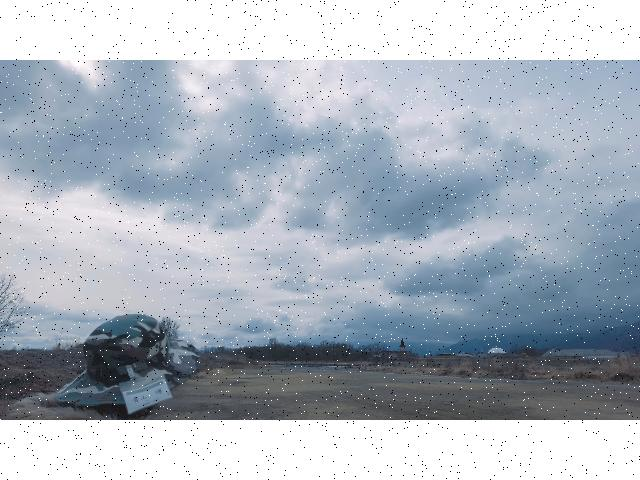Anti-Drone: (283, 276, 293, 288)
